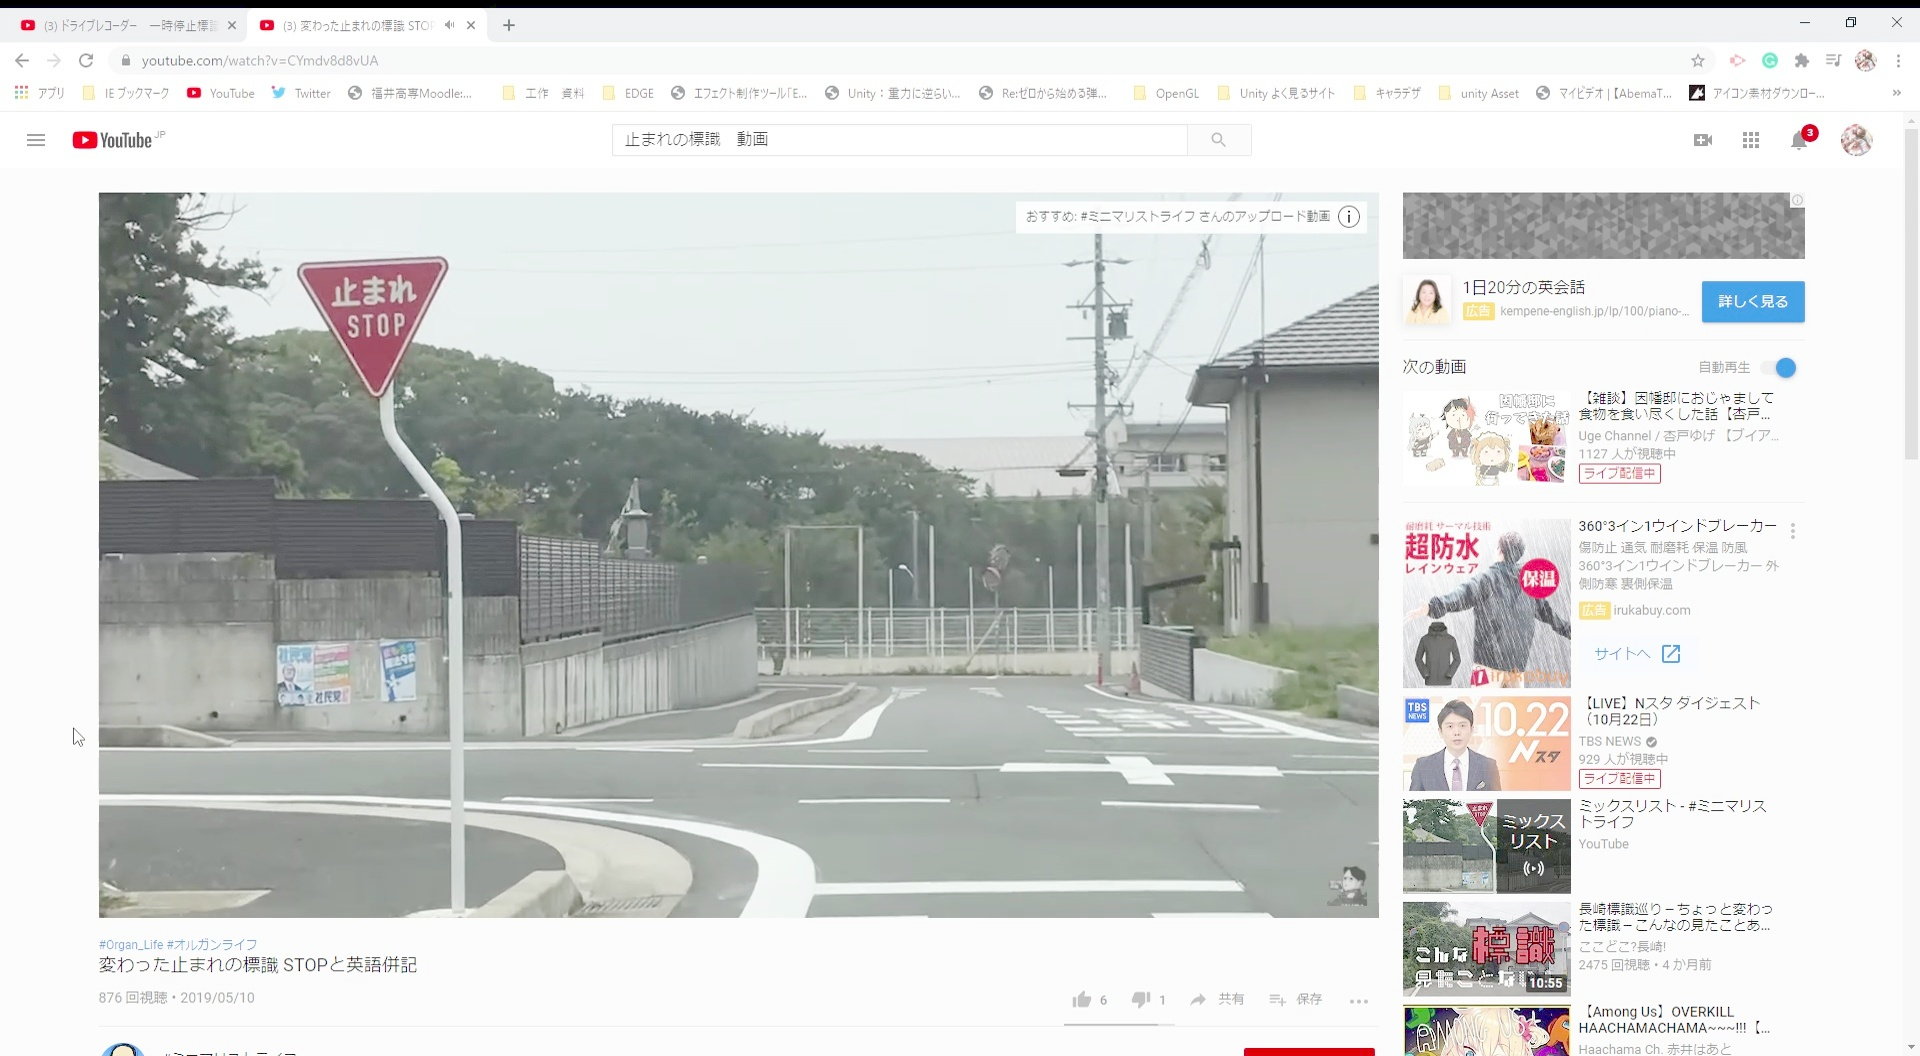Regulatory_sign_triangle: (283, 247, 481, 415)
